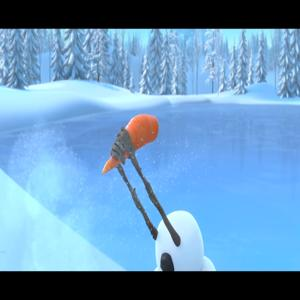carrot: (99, 110, 160, 170)
olaf: (120, 202, 226, 271)
